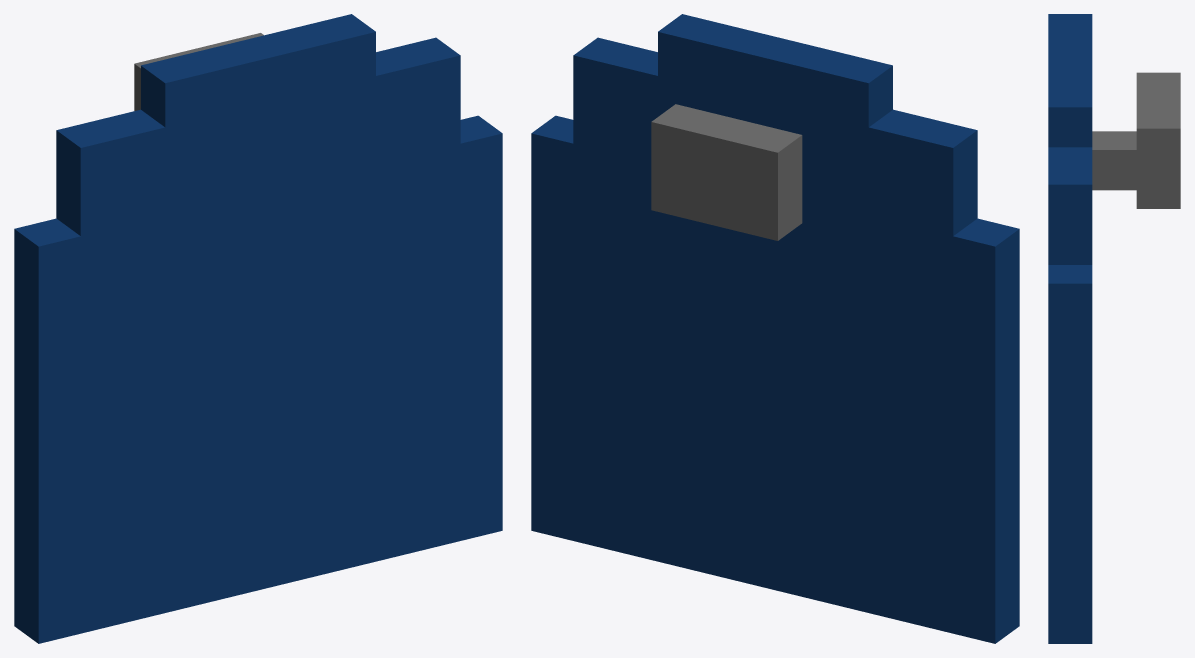
The model's file is mailbox_door.dae.
3 views of the same model, side by side, from view 1: azimuth 30°, elevation 25°; view 2: azimuth 150°, elevation 25°; view 3: azimuth 270°, elevation 25° (orthographic). The views are drawn at different scales.
Parts seen in each view (by area): view 1: PlaneCOL; view 2: PlaneCOL; view 3: PlaneCOL.
Part boxes in pixels (<box>): PlaneCOL: <box>14,14,502,643</box>; PlaneCOL: <box>531,14,1019,643</box>; PlaneCOL: <box>1048,14,1180,643</box>.
Bounding box in the file's own units: 1.1 × 0.3 × 1.2.
